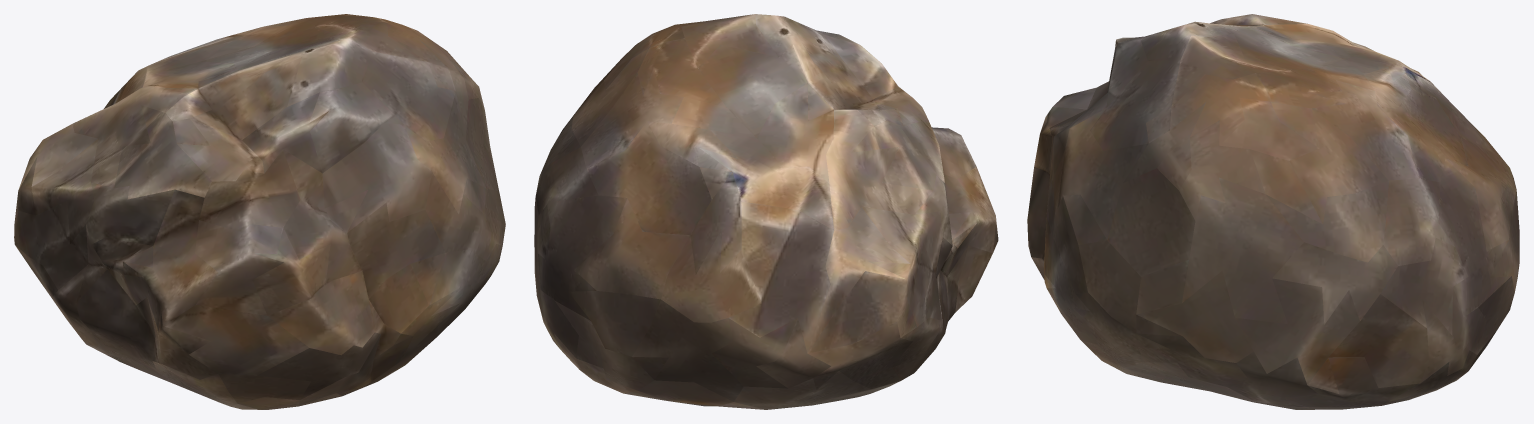
The model's file is gameplay-stone.glb.
The picture shows the model from 3 angles, left to right: view 1: azimuth 30°, elevation 25°; view 2: azimuth 150°, elevation 25°; view 3: azimuth 270°, elevation 25°; orthographic projection. The views are drawn at different scales.
Bounding box in the file's own units: 1 × 0.834 × 0.998.
Materials: 1 (1 with a texture image).
